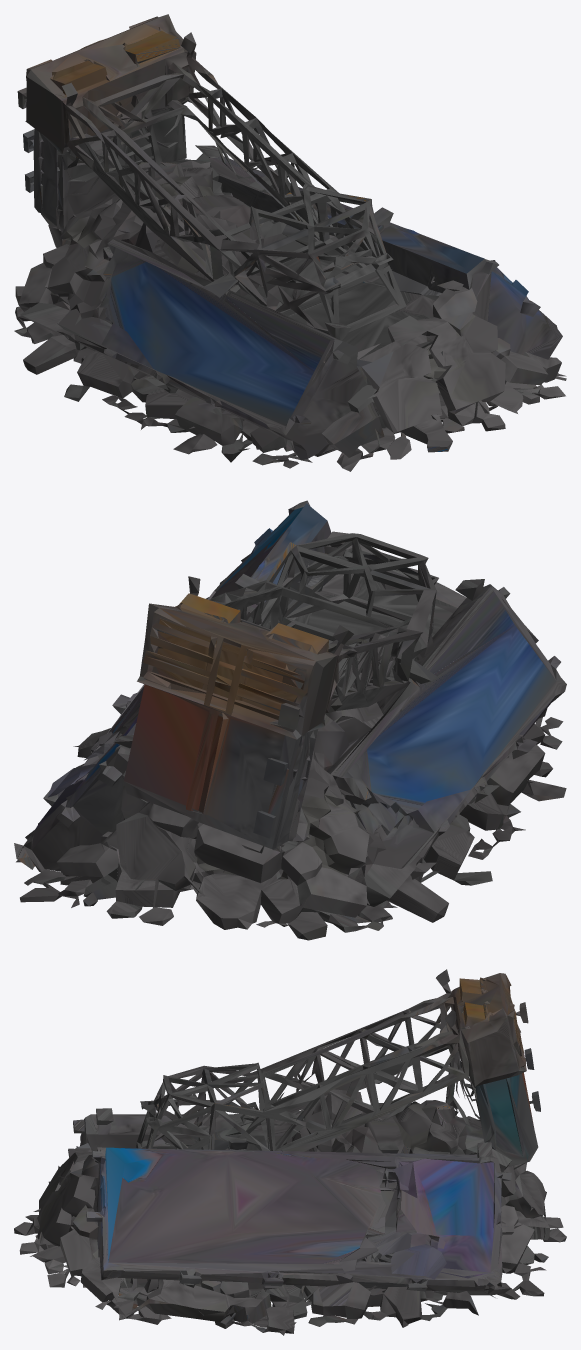
3 views of the same model, one above another, from view 1: azimuth 30°, elevation 25°; view 2: azimuth 150°, elevation 25°; view 3: azimuth 270°, elevation 25° (orthographic). The views are drawn at different scales.
Visible parts, largest first — view 1: k09; view 2: k09; view 3: k09.
Boxes of the visible parts, box(x1,y1,x2,y2) form: k09: box(14, 14, 566, 471); k09: box(14, 500, 566, 940); k09: box(14, 969, 566, 1335).
Bounding box in the file's own units: 17.84 × 12 × 24.36.
1 material, 1 textured.
